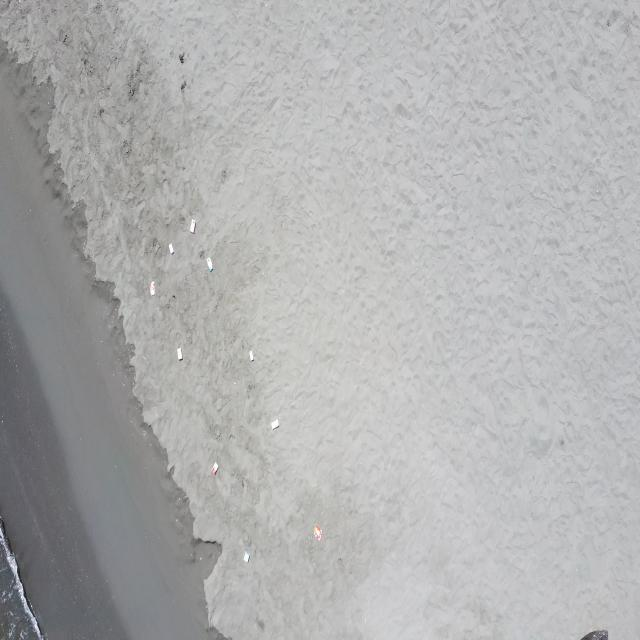Garbage: (312, 524, 322, 540), (148, 280, 155, 295), (243, 548, 249, 562), (211, 464, 218, 475), (207, 256, 212, 271), (190, 219, 195, 232), (271, 419, 278, 427), (176, 347, 180, 360), (168, 243, 172, 253), (248, 350, 252, 360)
